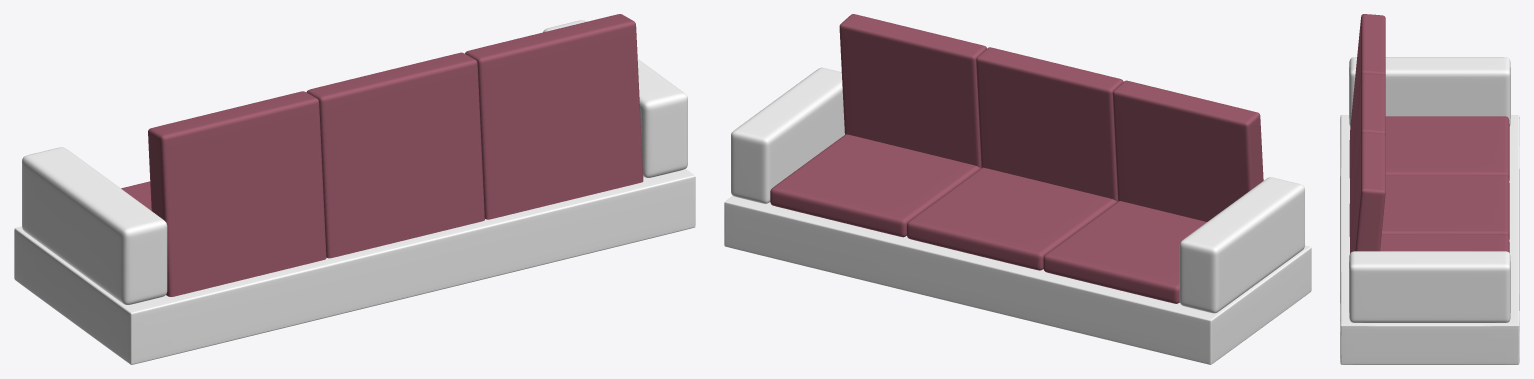
The picture shows the model from 3 angles, left to right: view 1: azimuth 30°, elevation 25°; view 2: azimuth 150°, elevation 25°; view 3: azimuth 270°, elevation 25°; orthographic projection. The views are drawn at different scales.
Parts seen in each view (by area): view 1: MainCouch_Base, MainCouch_BackCushion_1, MainCouch_BackCushion_3, MainCouch_BackCushion_2, MainCouch_Armrest_Left, MainCouch_Armrest_Right; view 2: MainCouch_Base, MainCouch_BackCushion_3, MainCouch_BackCushion_2, MainCouch_BackCushion_1, MainCouch_SeatCushion_2, MainCouch_SeatCushion_3, MainCouch_Armrest_Left, MainCouch_SeatCushion_1, MainCouch_Armrest_Right; view 3: MainCouch_Base, MainCouch_Armrest_Right, MainCouch_Armrest_Left, MainCouch_SeatCushion_2, MainCouch_SeatCushion_1, MainCouch_BackCushion_3, MainCouch_SeatCushion_3, MainCouch_BackCushion_1, MainCouch_BackCushion_2.
Boxes of the visible parts, bbox=[...] form: MainCouch_Base: bbox=[14, 168, 695, 364]; MainCouch_BackCushion_1: bbox=[148, 91, 326, 296]; MainCouch_BackCushion_3: bbox=[465, 14, 643, 219]; MainCouch_BackCushion_2: bbox=[306, 52, 484, 258]; MainCouch_Armrest_Left: bbox=[22, 147, 167, 304]; MainCouch_Armrest_Right: bbox=[543, 20, 687, 177]; MainCouch_Base: bbox=[724, 196, 1311, 364]; MainCouch_BackCushion_3: bbox=[839, 14, 986, 168]; MainCouch_BackCushion_2: bbox=[976, 47, 1123, 201]; MainCouch_BackCushion_1: bbox=[1112, 80, 1263, 221]; MainCouch_SeatCushion_2: bbox=[906, 167, 1116, 270]; MainCouch_SeatCushion_3: bbox=[770, 134, 980, 237]; MainCouch_Armrest_Left: bbox=[1179, 177, 1304, 313]; MainCouch_SeatCushion_1: bbox=[1043, 201, 1206, 303]; MainCouch_Armrest_Right: bbox=[731, 67, 844, 203]; MainCouch_Base: bbox=[1340, 115, 1519, 364]; MainCouch_Armrest_Right: bbox=[1349, 251, 1510, 322]; MainCouch_Armrest_Left: bbox=[1349, 57, 1510, 126]; MainCouch_SeatCushion_2: bbox=[1381, 175, 1509, 239]; MainCouch_SeatCushion_1: bbox=[1385, 116, 1509, 180]; MainCouch_BackCushion_3: bbox=[1350, 132, 1385, 253]; MainCouch_SeatCushion_3: bbox=[1380, 234, 1509, 252]; MainCouch_BackCushion_1: bbox=[1349, 14, 1385, 188]; MainCouch_BackCushion_2: bbox=[1349, 73, 1385, 247].
Bounding box in the file's own units: 5 × 1.75 × 1.8.
